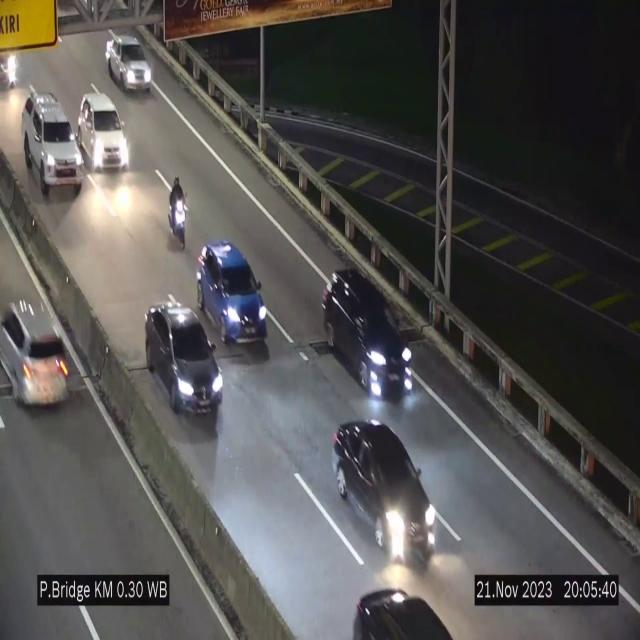Car: (333, 419, 439, 563), (323, 266, 413, 404), (0, 291, 70, 413), (146, 302, 222, 414), (343, 579, 464, 640), (198, 240, 266, 343), (23, 95, 81, 197), (77, 93, 130, 170), (105, 36, 152, 92)
Motorcycle: (168, 176, 186, 250)
